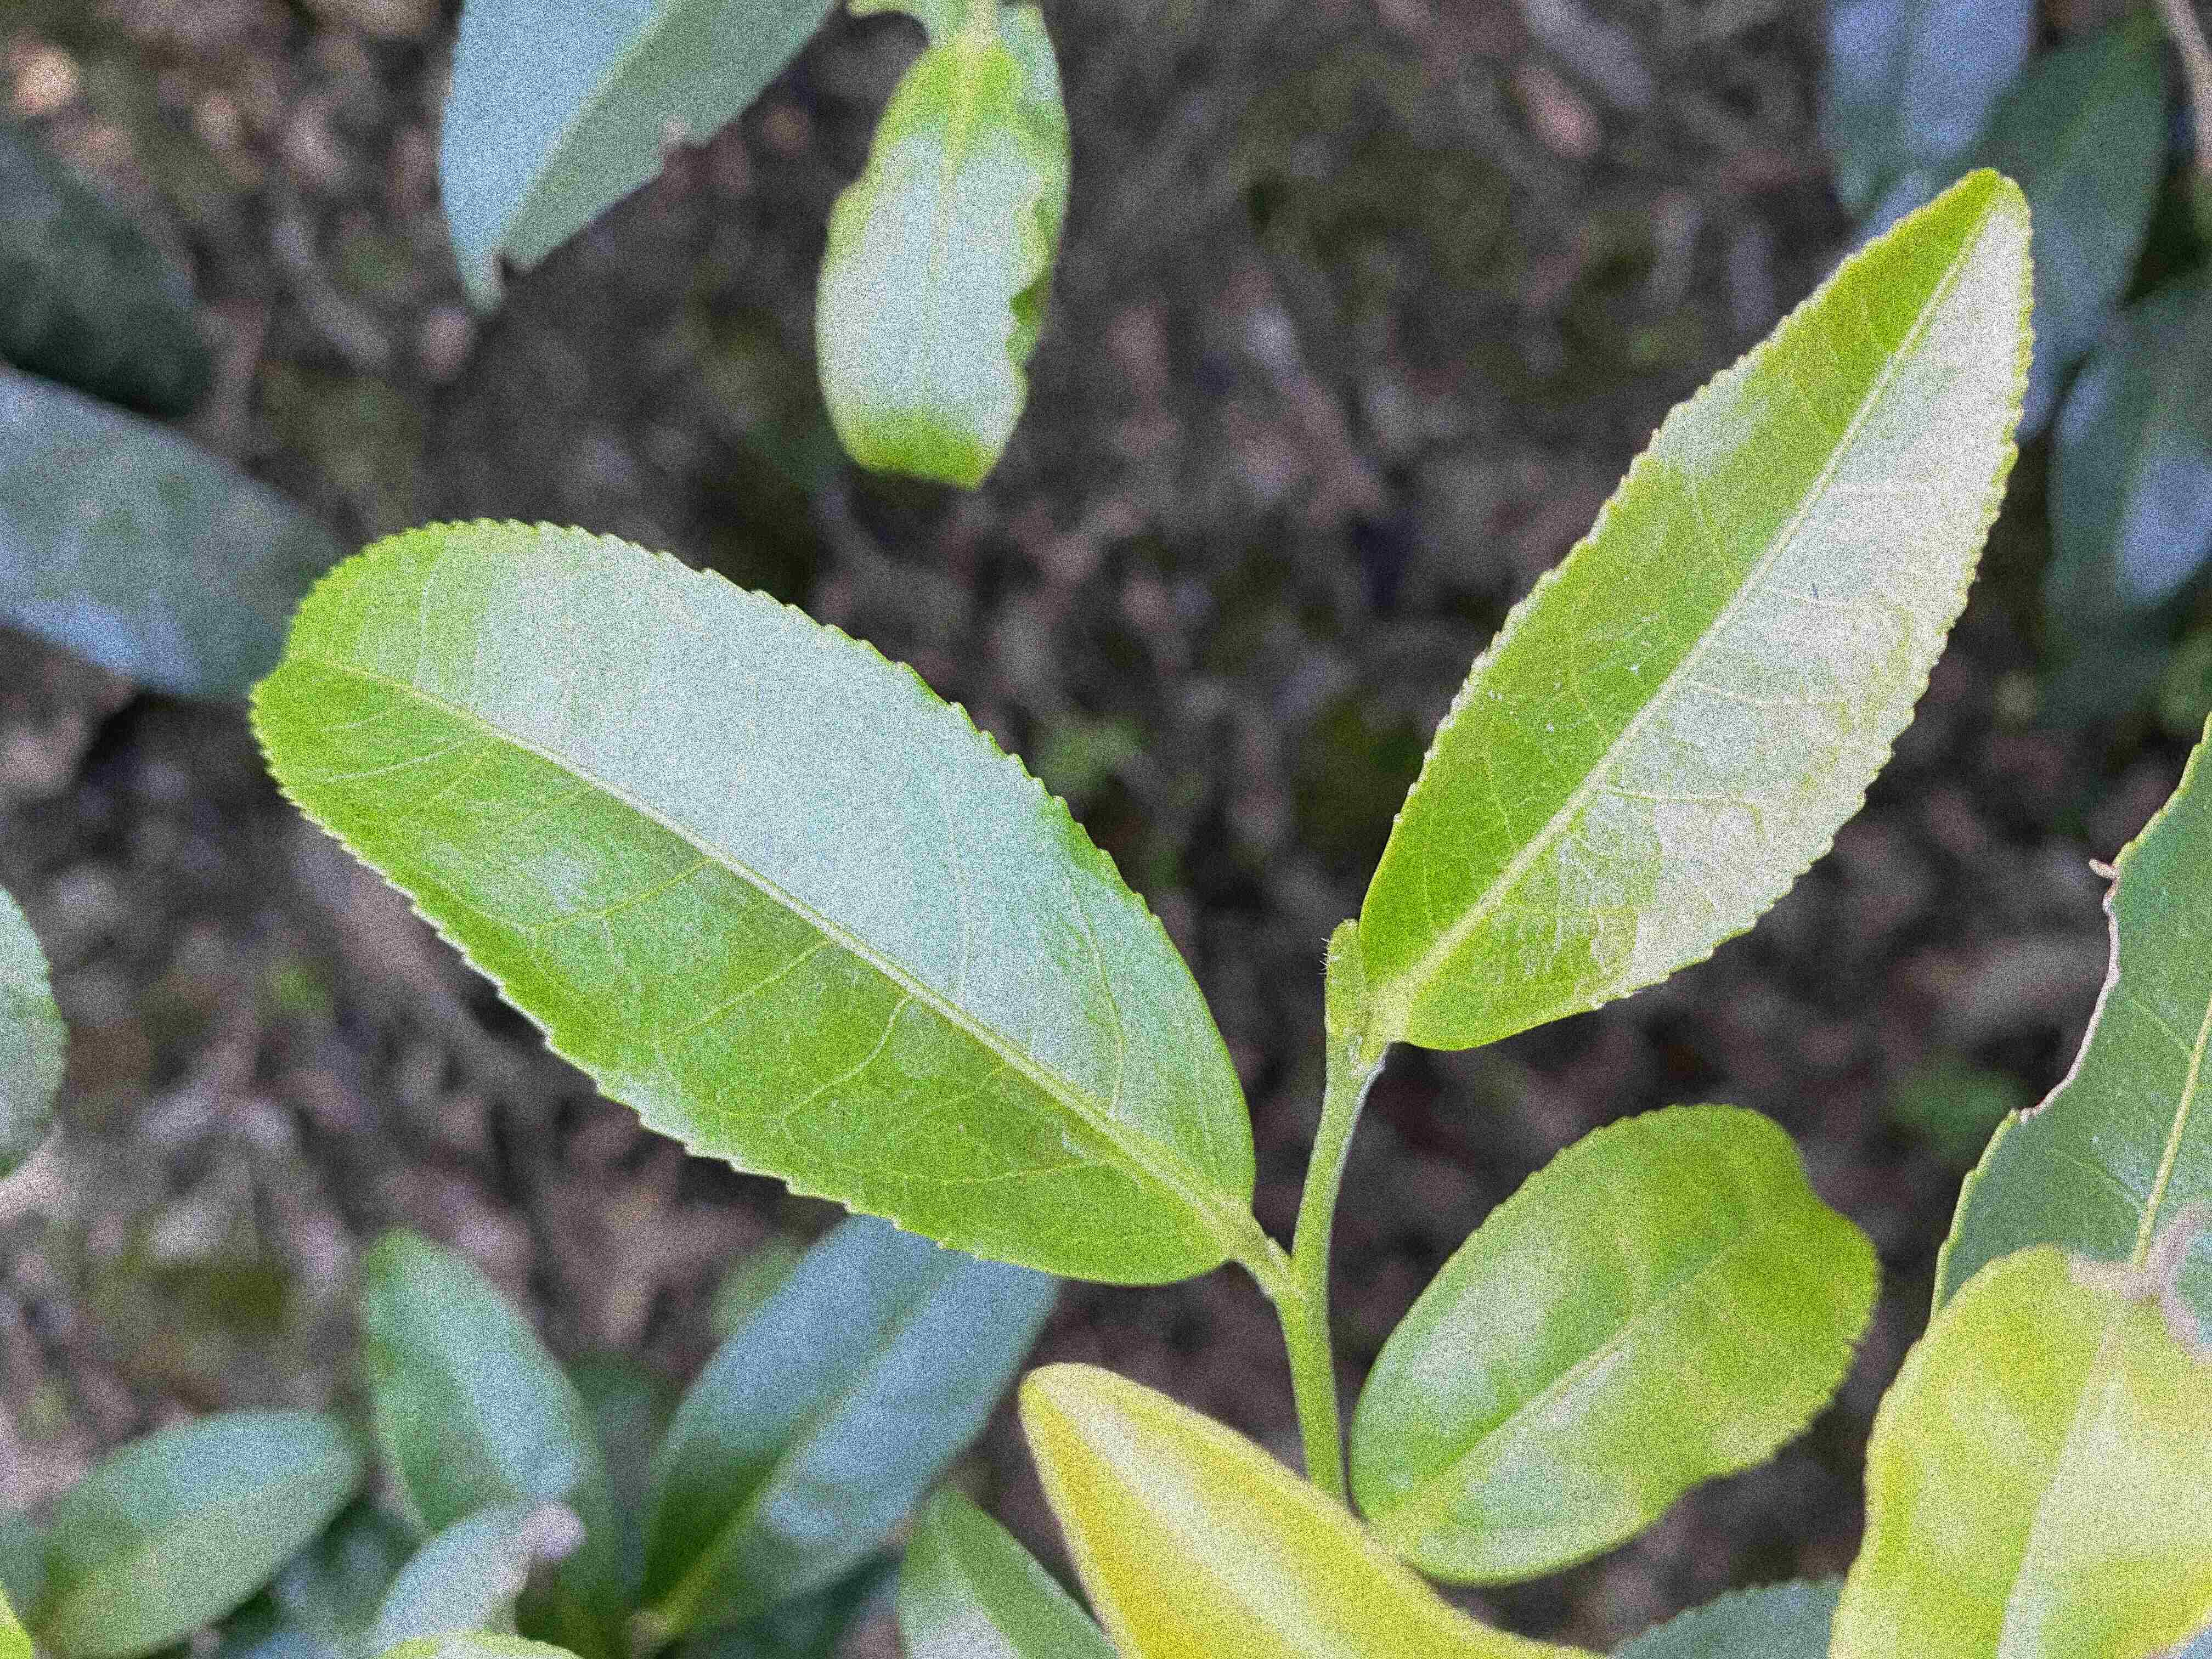chihuo_high: (1822, 1201, 2210, 1657)
healthy: (237, 514, 1261, 1290), (1359, 164, 2040, 1053), (1348, 1101, 1883, 1588)
